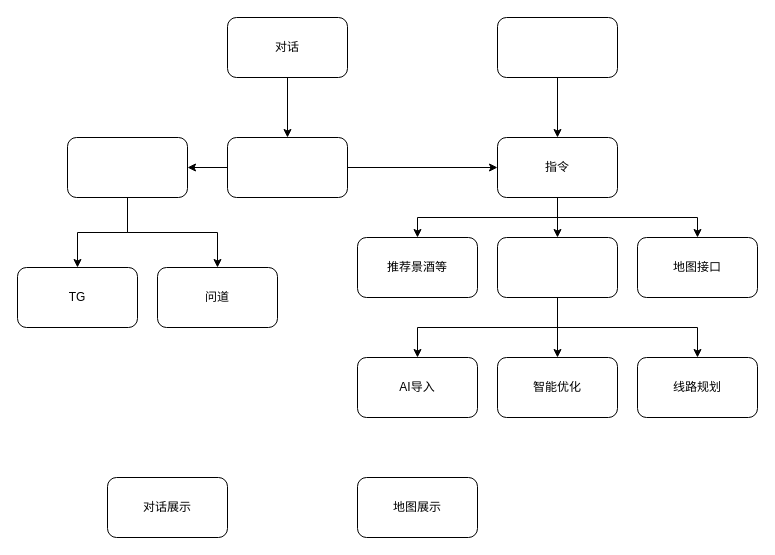
This 775x555 diagram has some shape labels left out. Here are the shapes that lost their labels. From the top down, the centre of each, then its label:
At [557,47]: "操作".
At [127,167]: "探索".
At [287,167]: "意图识别".
At [557,267]: "线路接口".
